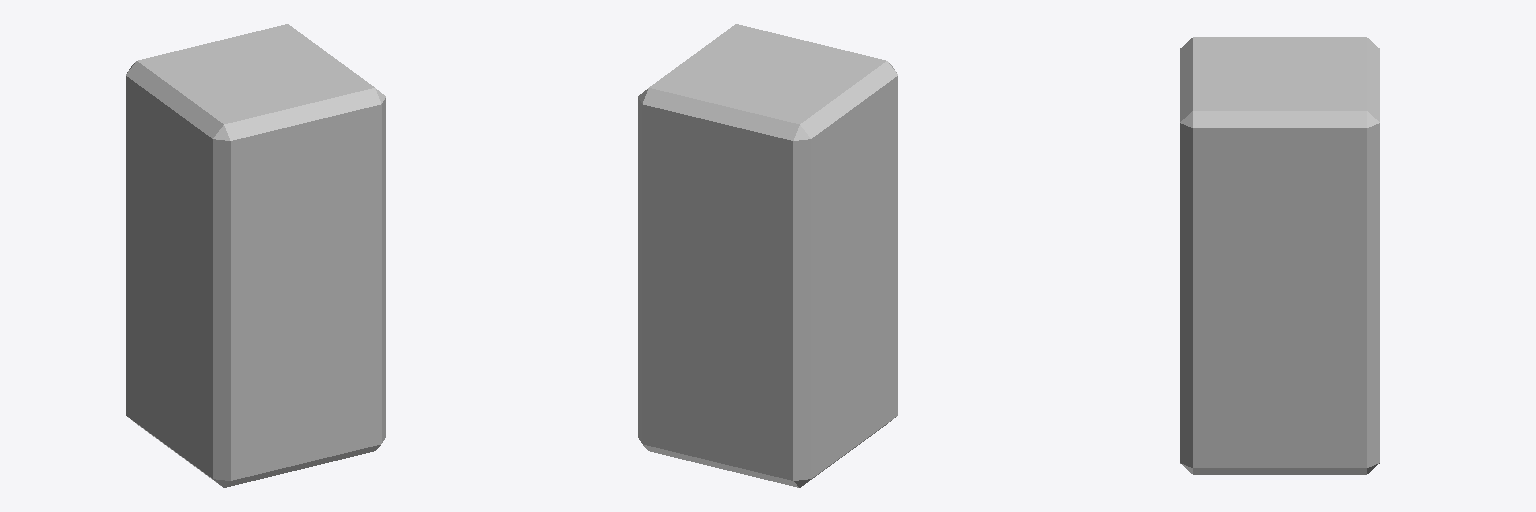
Rendered from LeftArm.obj.
3 views of the same model, side by side, from view 1: azimuth 30°, elevation 25°; view 2: azimuth 150°, elevation 25°; view 3: azimuth 270°, elevation 25° (orthographic).
Visible parts, largest first — view 1: LeftArm; view 2: LeftArm; view 3: LeftArm.
Boxes of the visible parts, <box> form: LeftArm: <box>126,24,385,487</box>; LeftArm: <box>638,24,897,487</box>; LeftArm: <box>1180,37,1379,474</box>.
Bounding box in the file's own units: 0.375 × 0.75 × 0.375.